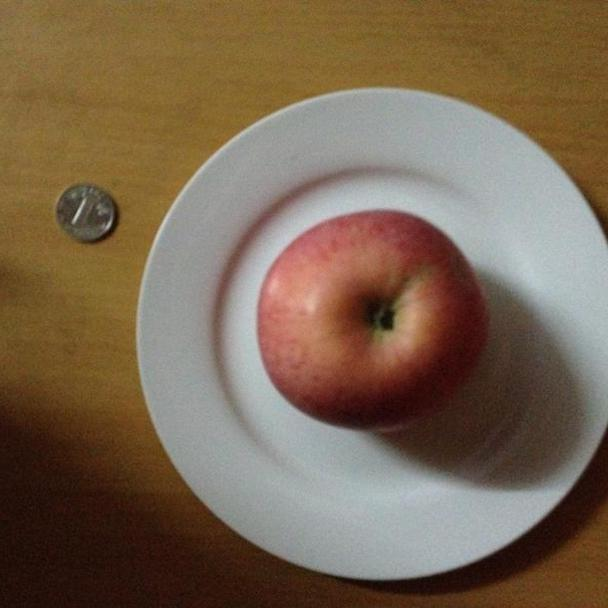apple: (255, 209, 489, 432)
